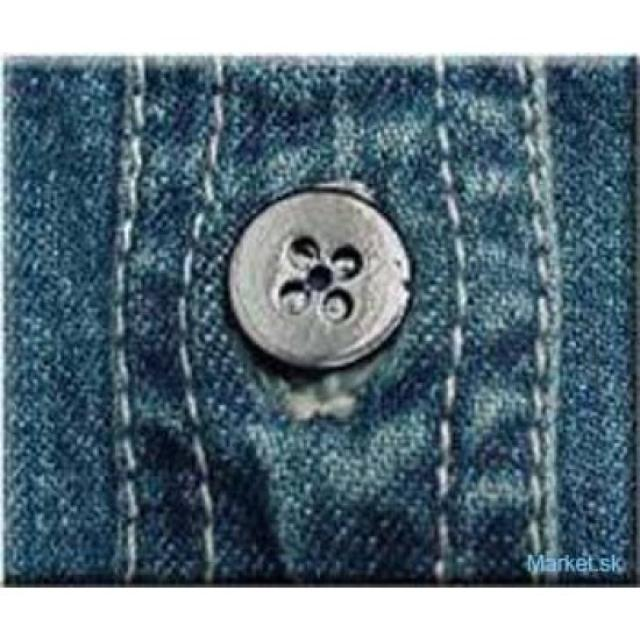hidden camera: (303, 264, 336, 295)
